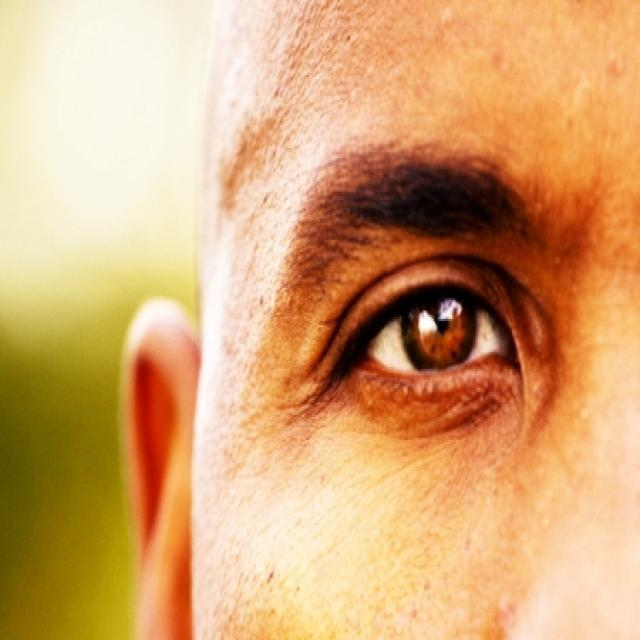Cataract: (408, 286, 474, 372)
